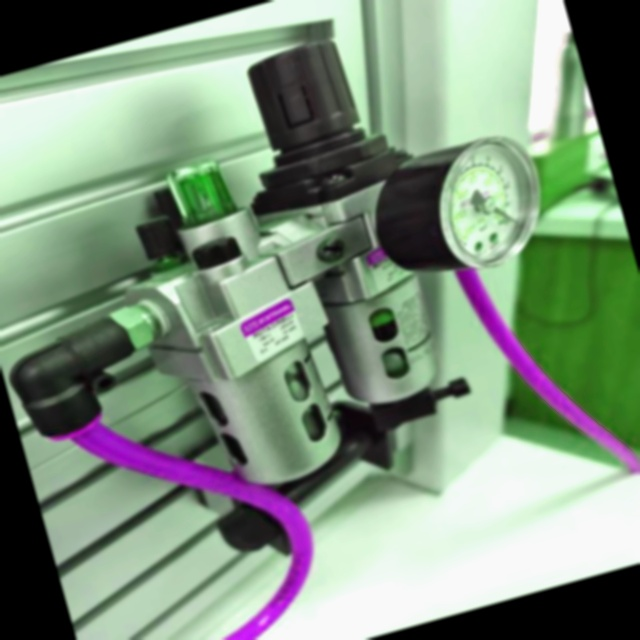FRL unit: (0, 0, 625, 617)
